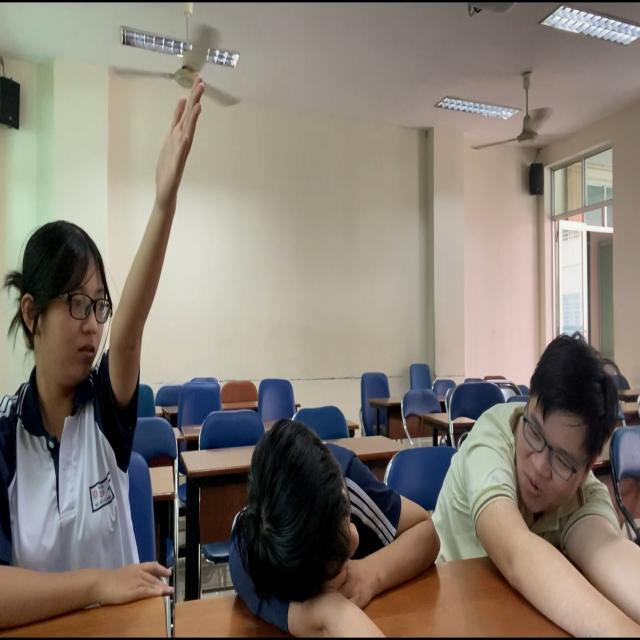raise_hand: (1, 43, 204, 640)
sleep: (225, 417, 445, 640)
